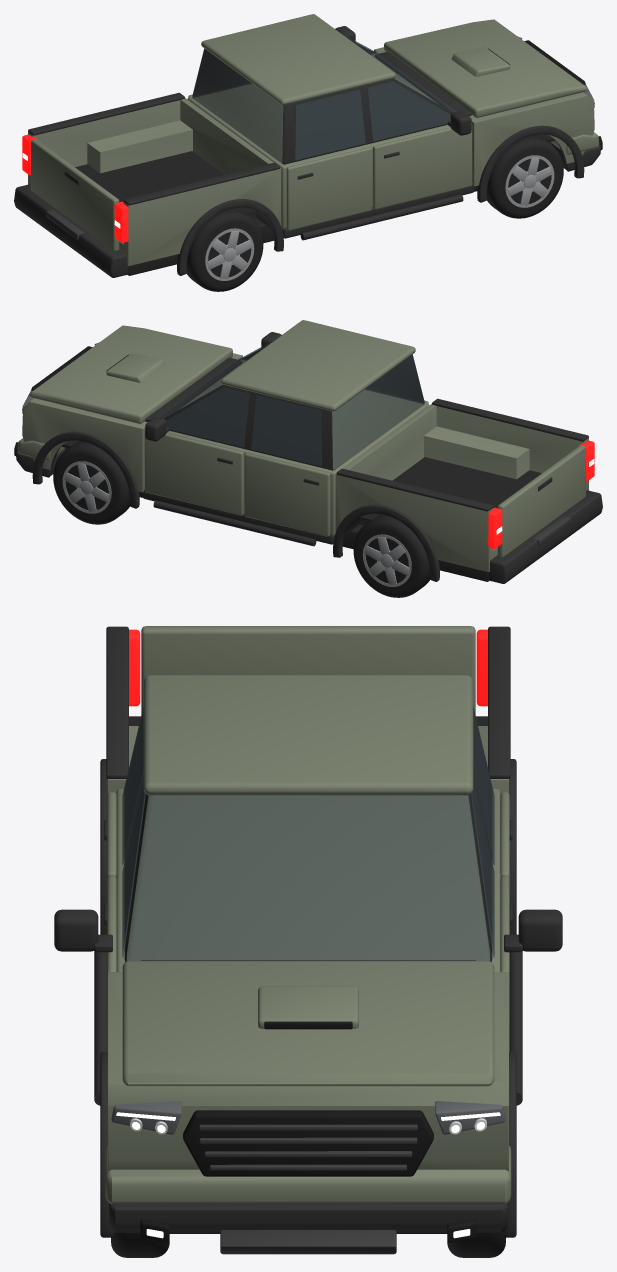
File: tacoma-style.glb
3 views of the same model, one above another, from view 1: azimuth 30°, elevation 25°; view 2: azimuth 150°, elevation 25°; view 3: azimuth 270°, elevation 25° (orthographic). The views are drawn at different scales.
Parts seen in each view (by area): view 1: body_cab, bed, hood, door_fr, door_rr, wheel_fr, wheel_rr, tailgate, bumper_rear, bumper_front, taillight_r, mirror_r; view 2: body_cab, bed, hood, door_fl, door_rl, wheel_fl, wheel_rl, tailgate, bumper_rear, bumper_front, taillight_l, mirror_l; view 3: body_cab, hood, bumper_front, tailgate, grille, bed, door_rl, door_rr, door_fl, door_fr, mirror_l, mirror_r (+6 smaller).
Boxes of the visible parts, left/top/right/bottom form: body_cab: left=127, top=14, right=594, bottom=275; bed: left=28, top=92, right=283, bottom=275; hood: left=384, top=19, right=587, bottom=117; door_fr: left=367, top=81, right=472, bottom=209; door_rr: left=286, top=89, right=372, bottom=230; wheel_fr: left=487, top=135, right=563, bottom=218; wheel_rr: left=186, top=208, right=263, bottom=291; tailgate: left=31, top=139, right=119, bottom=250; bumper_rear: left=14, top=184, right=128, bottom=277; bumper_front: left=551, top=132, right=602, bottom=171; taillight_r: left=114, top=201, right=129, bottom=242; mirror_r: left=447, top=111, right=471, bottom=135; body_cab: left=22, top=320, right=489, bottom=581; bed: left=333, top=398, right=588, bottom=581; hood: left=29, top=325, right=232, bottom=423; door_fl: left=144, top=387, right=249, bottom=515; door_rl: left=244, top=395, right=330, bottom=536; wheel_fl: left=53, top=441, right=129, bottom=524; wheel_rl: left=353, top=514, right=430, bottom=597; tailgate: left=497, top=445, right=585, bottom=556; bumper_rear: left=488, top=490, right=602, bottom=583; bumper_front: left=14, top=438, right=65, bottom=477; taillight_l: left=487, top=507, right=502, bottom=548; mirror_l: left=145, top=417, right=169, bottom=441; body_cab: left=94, top=675, right=522, bottom=1237; hood: left=122, top=961, right=494, bottom=1086; bumper_front: left=105, top=1146, right=511, bottom=1254; tailgate: left=141, top=626, right=475, bottom=714; grille: left=183, top=1110, right=433, bottom=1176; bed: left=100, top=626, right=516, bottom=934; door_rl: left=473, top=706, right=512, bottom=878; door_rr: left=104, top=706, right=143, bottom=878; door_fl: left=471, top=776, right=512, bottom=1051; door_fr: left=104, top=776, right=145, bottom=1051; mirror_l: left=504, top=909, right=562, bottom=952; mirror_r: left=54, top=909, right=112, bottom=952.
Size of the model in its own units: 5.54 by 1.8 by 2.42.
